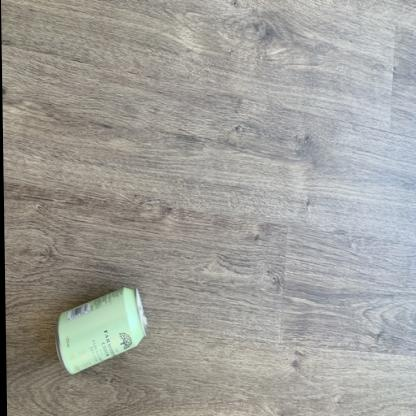trash: (57, 287, 146, 373)
